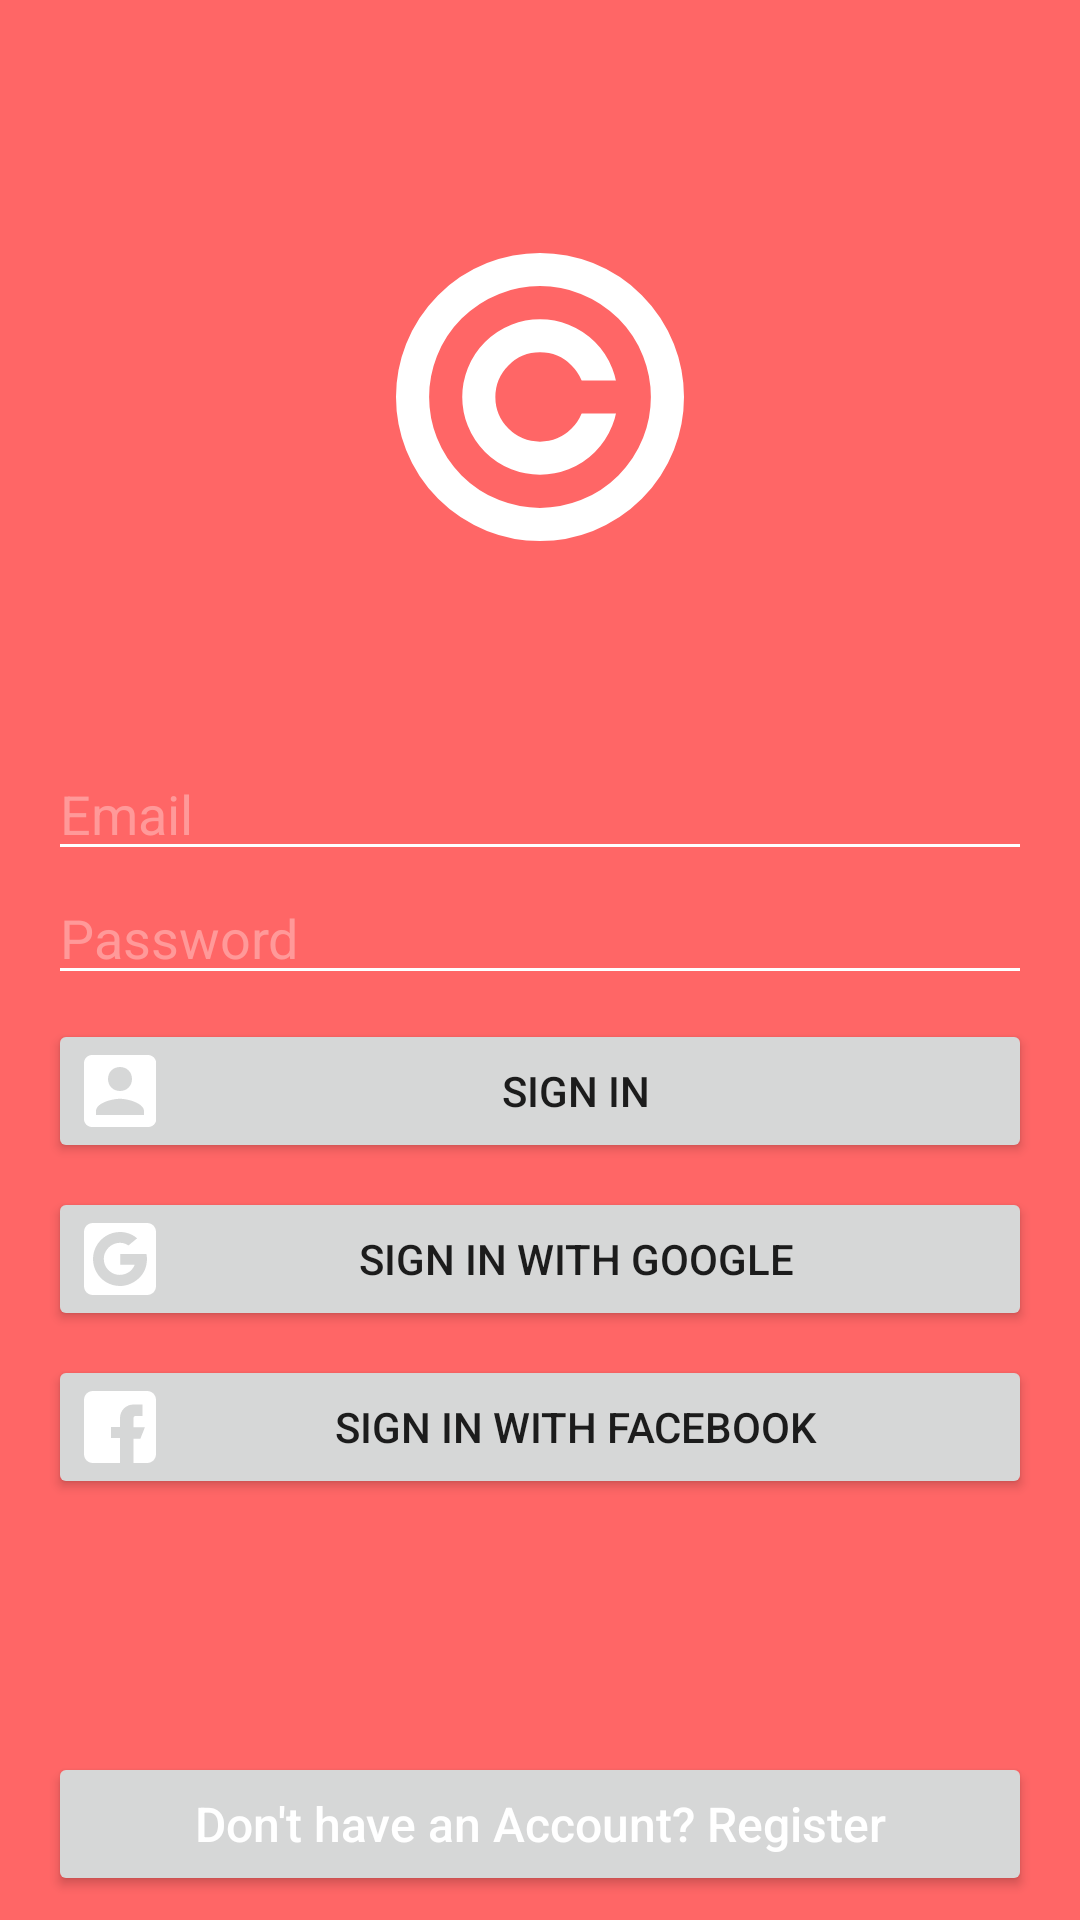

Icon click points for this 1080x1920 phone screenshot, format point (x, y):
Copyrightly: point (540, 397)
